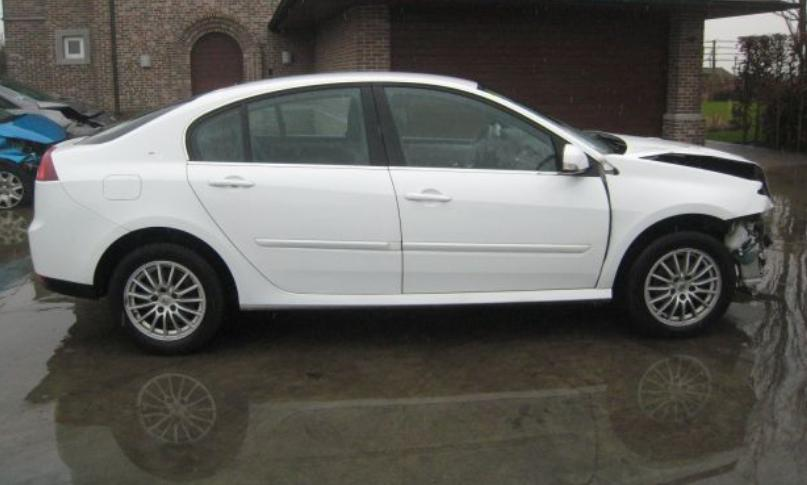Back-bumper: (31, 182, 127, 284)
Back-door: (189, 158, 402, 294)
Back-wheel: (96, 239, 234, 356)
Back-window: (249, 87, 386, 165), (192, 109, 243, 159)
Back-windshield: (76, 103, 192, 145)
Fender: (596, 153, 770, 289)
Front-door: (393, 167, 610, 294)
Front-wheel: (619, 223, 739, 343)
Front-window: (373, 87, 557, 173)
Hood: (588, 134, 762, 180)
Mirror: (564, 142, 590, 172)
Quarter-panel: (50, 132, 285, 296)
Rocker-panel: (238, 286, 612, 309)
Roof: (208, 71, 477, 93)
Tail-light: (37, 147, 57, 181)
Trunk: (55, 136, 88, 148)
Windshield: (483, 85, 613, 152)
